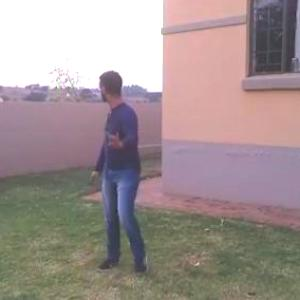takeoff-hand: (102, 124, 130, 151)
